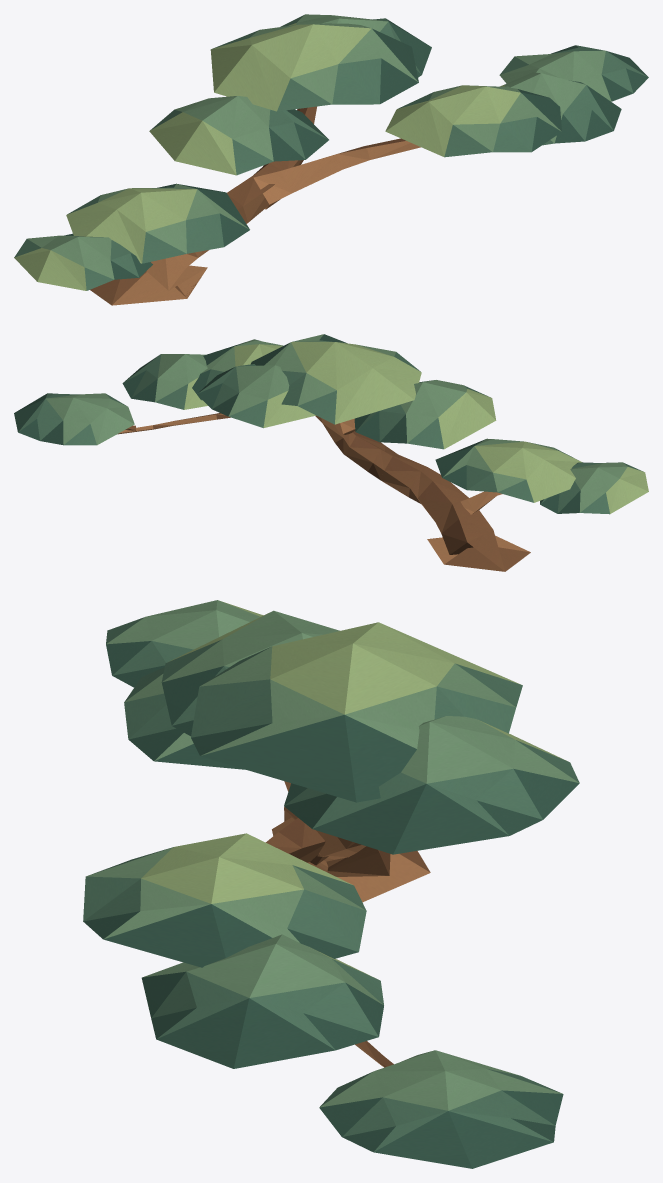
Rendered from 02_pine_tree_C.obj.
3 views of the same model, one above another, from view 1: azimuth 30°, elevation 25°; view 2: azimuth 150°, elevation 25°; view 3: azimuth 270°, elevation 25° (orthographic). The views are drawn at different scales.
Visible parts, largest first — view 1: Pine_C_Canopy, Pine_C_Trunk; view 2: Pine_C_Canopy, Pine_C_Trunk; view 3: Pine_C_Canopy, Pine_C_Trunk.
Part boxes in pixels (x1=…): Pine_C_Canopy: x1=14, y1=14, x2=648, y2=290; Pine_C_Trunk: x1=90, y1=106, x2=420, y2=305; Pine_C_Canopy: x1=14, y1=334, x2=648, y2=514; Pine_C_Trunk: x1=117, y1=413, x2=530, y2=571; Pine_C_Canopy: x1=83, y1=600, x2=579, y2=1168; Pine_C_Trunk: x1=266, y1=781, x2=430, y2=1067.
Bounding box in the file's own units: 5.13 × 1.54 × 1.96.
Materials: 1 (1 with a texture image).
